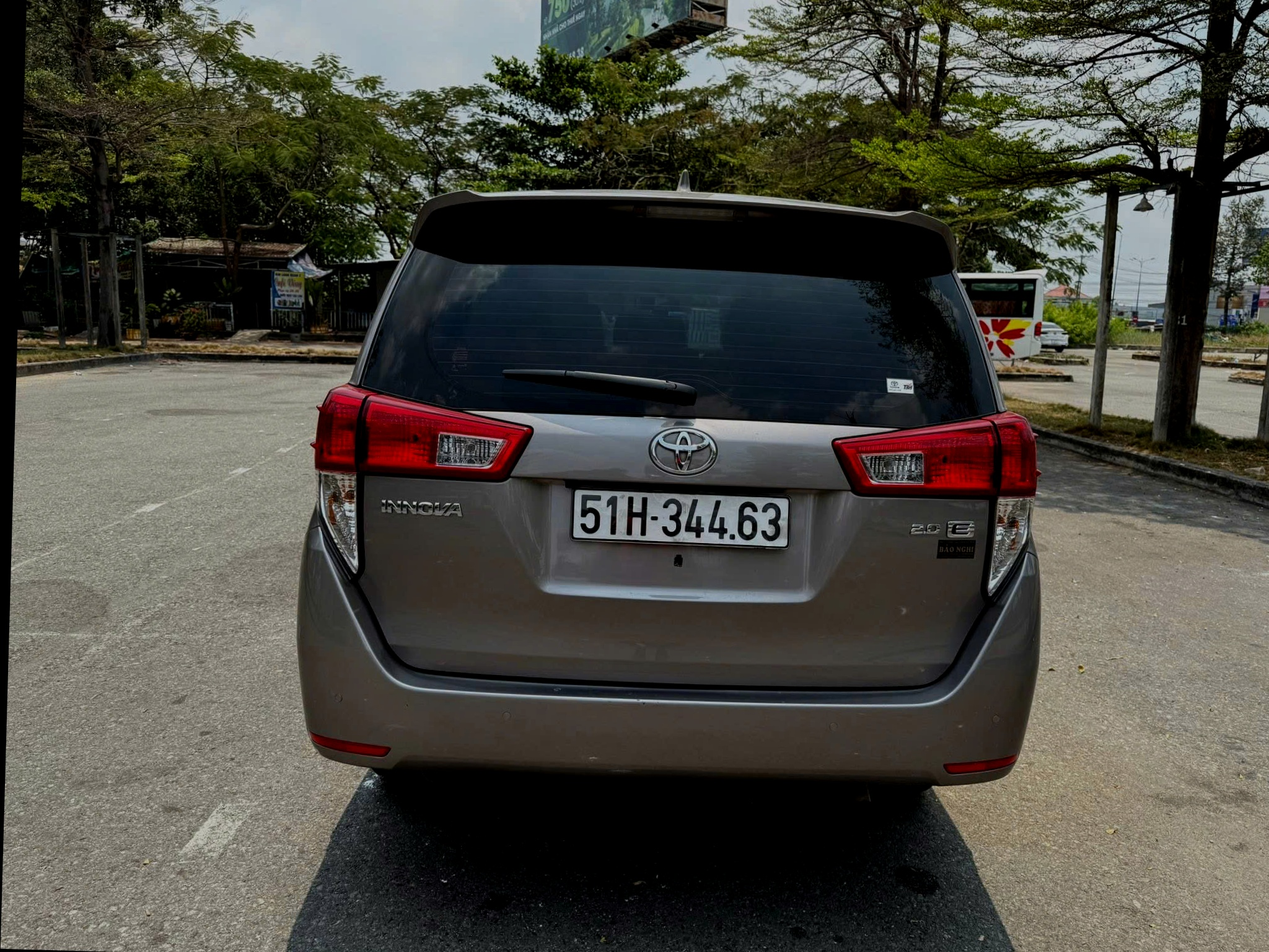Bien-so: (569, 481, 796, 546)
